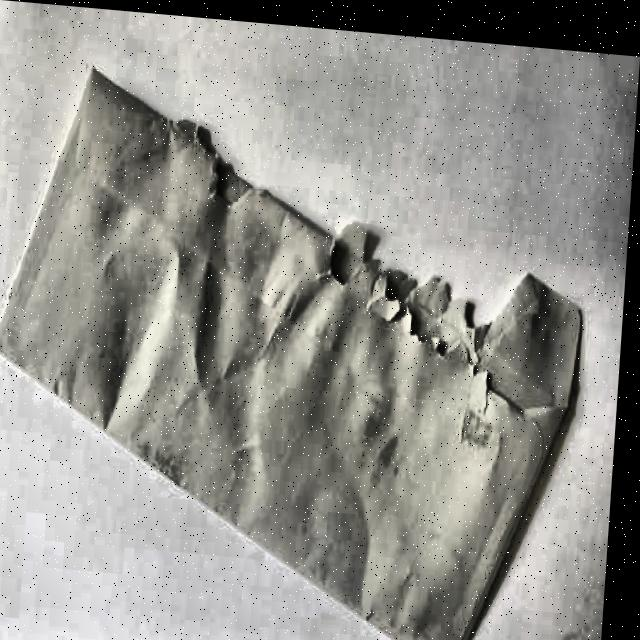paper: (0, 77, 595, 640)
